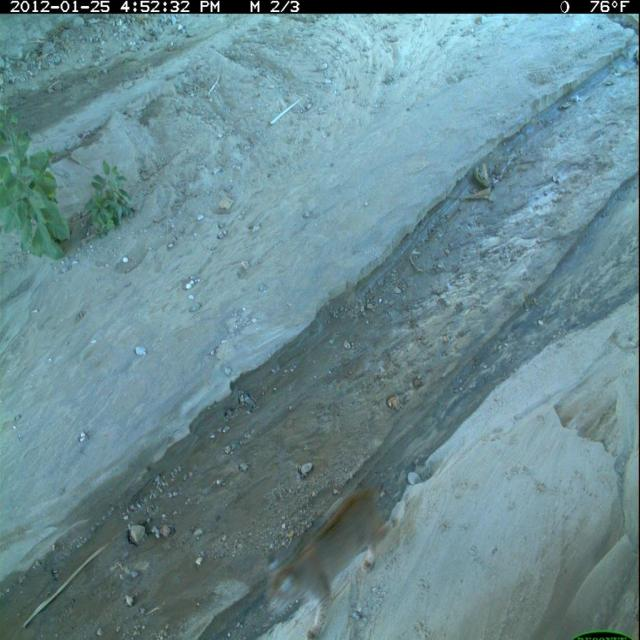bobcat: (261, 467, 408, 640)
